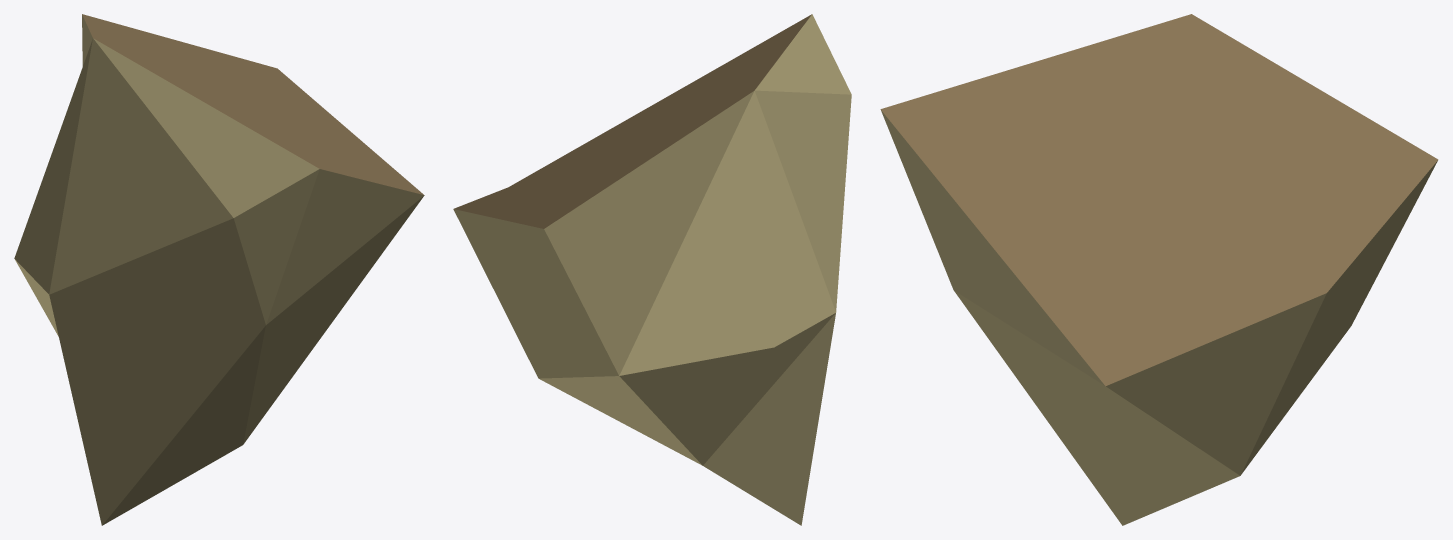
The picture shows the model from 3 angles, left to right: view 1: azimuth 30°, elevation 25°; view 2: azimuth 150°, elevation 25°; view 3: azimuth 270°, elevation 25°; orthographic projection. The views are drawn at different scales.
Parts seen in each view (by area): view 1: Object054; view 2: Object054; view 3: Object054.
Boxes of the visible parts, x1,y1,x2,y2 form: Object054: [14, 14, 424, 525]; Object054: [453, 14, 851, 525]; Object054: [880, 14, 1438, 525].
Size of the model in its own units: 55.58 by 68.99 by 69.35.
